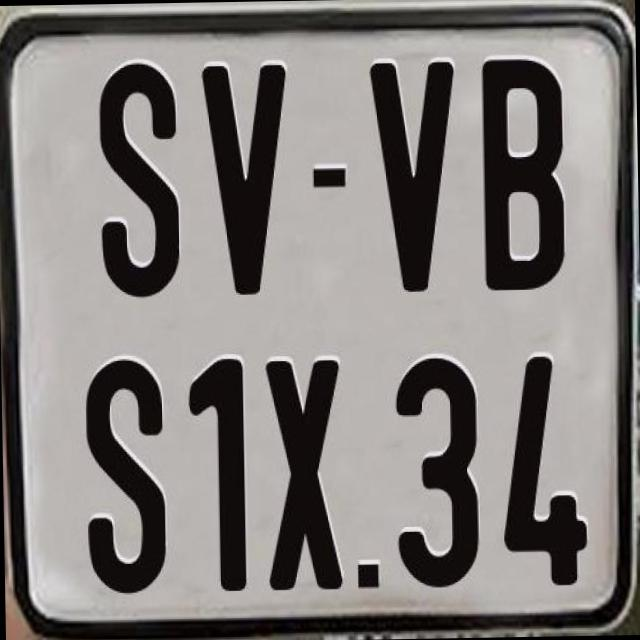1: (184, 358, 246, 594)
3: (391, 354, 478, 592)
4: (499, 354, 593, 588)
B: (481, 57, 572, 290)
S: (96, 61, 186, 302), (84, 353, 170, 590)
V: (198, 59, 292, 296), (368, 60, 458, 295)
X: (264, 360, 350, 590)
